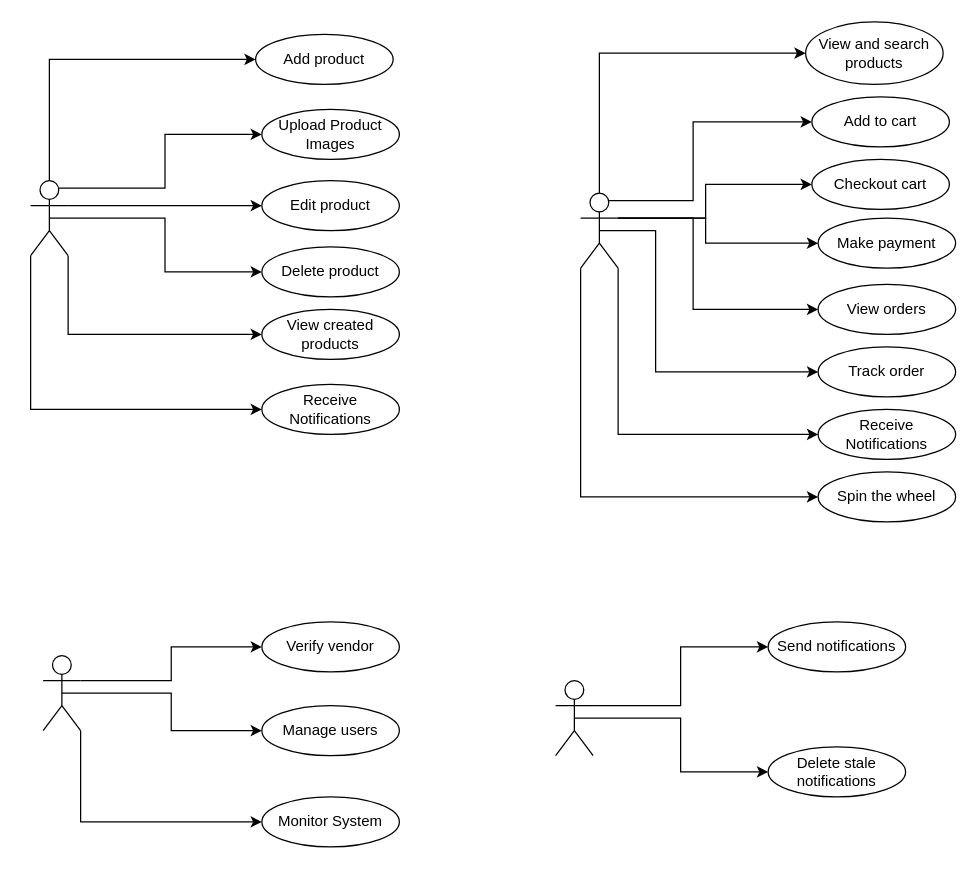
The diagram is 978 pixels wide and 869 high, and some of its shapes have lost their labels. The box of each missing label's shape, as (x1, y1, x2, y2) in pixels:
Admin: (42, 654, 81, 731)
Customer: (579, 192, 618, 268)
System: (554, 679, 593, 756)
Vendor: (29, 179, 68, 256)
